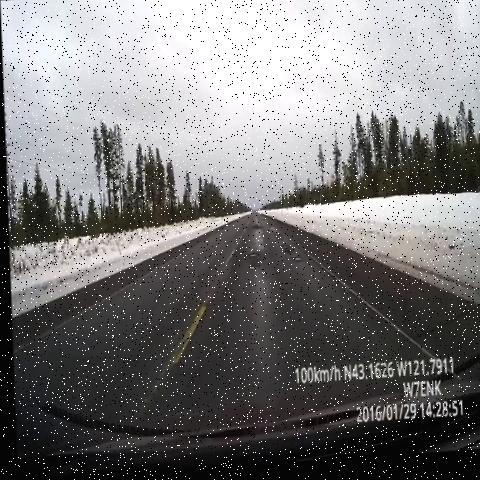pothole: (243, 262, 261, 280), (241, 251, 261, 266), (277, 242, 293, 260), (290, 253, 305, 270), (245, 223, 262, 237), (270, 232, 282, 246), (257, 219, 269, 231)
